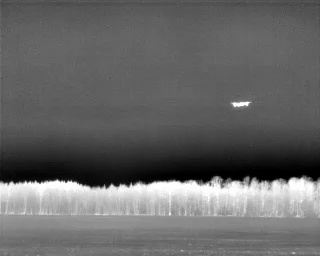DRONE: (228, 96, 254, 112)
